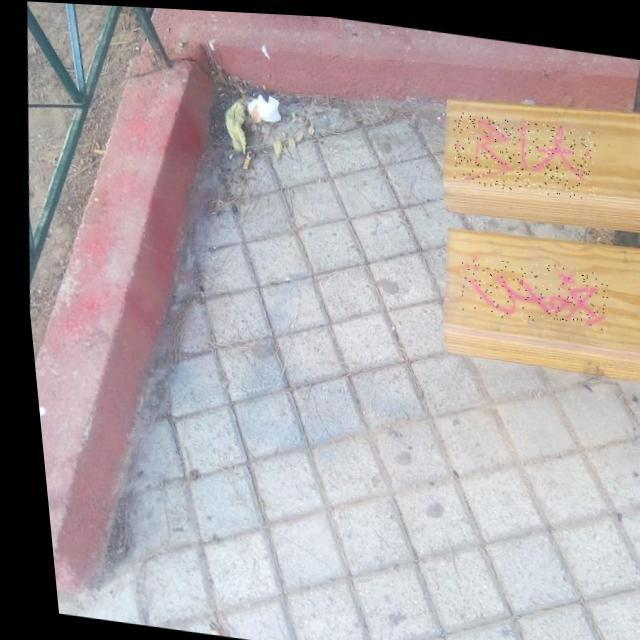-: (446, 106, 600, 195), (449, 246, 607, 326)
